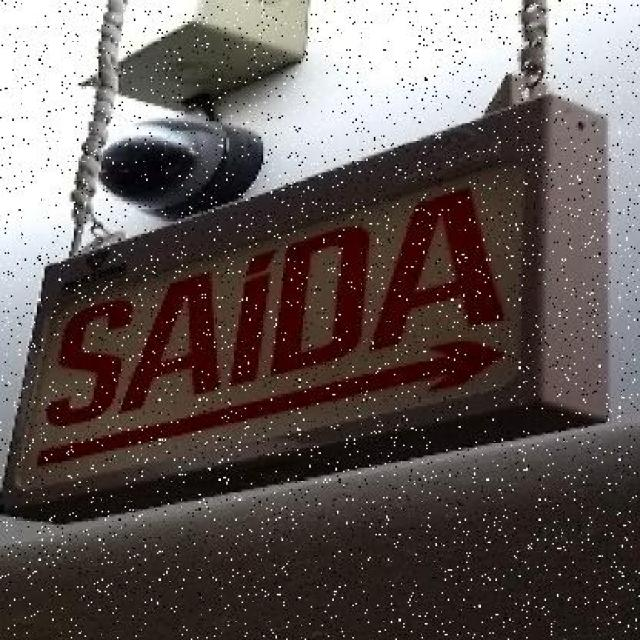emergency_exit: (2, 93, 611, 522)
